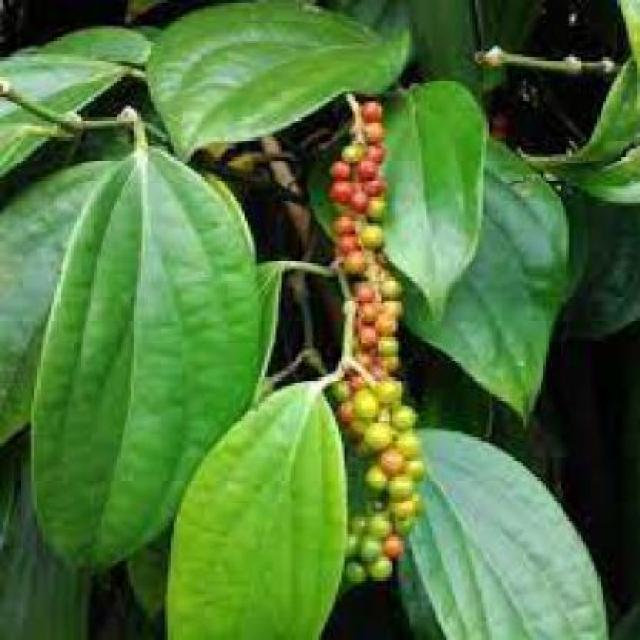RIPE: (325, 91, 416, 583)
